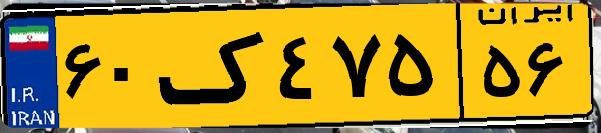0: (110, 28, 158, 98)
4: (270, 28, 330, 110)
5: (385, 28, 445, 110), (475, 38, 525, 113)
6: (57, 26, 110, 100), (525, 38, 570, 115)
7: (330, 28, 385, 110)
ک: (158, 12, 270, 120)
